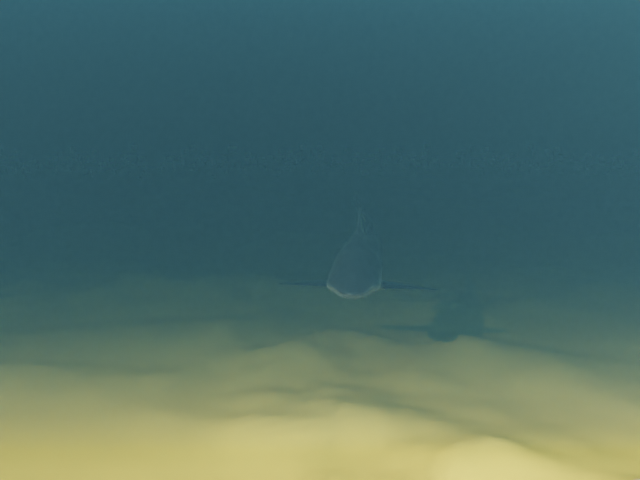Carribean Shark.001: (278, 190, 440, 299)
